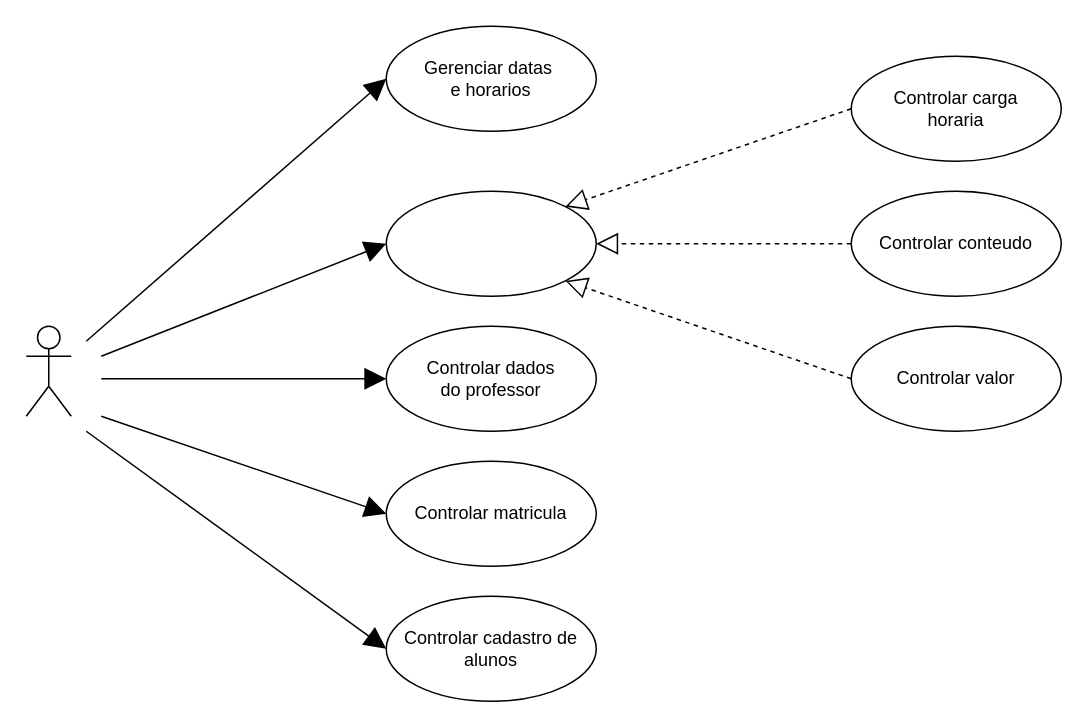
The diagram is 1088 pixels wide and 728 high, and some of its shapes have lost their labels. Here are the shapes that lost their labels. From the top down, the centre of each, then its label:
At (490,243): "Controlar cursos".
At (48,370): "Dono".
